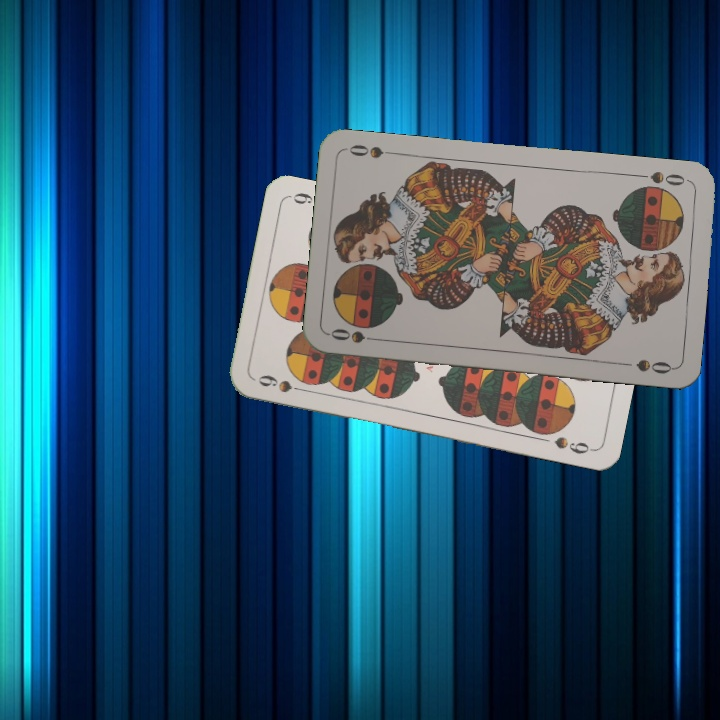S9: (255, 370, 311, 396)
SO: (632, 167, 692, 189), (327, 324, 386, 346)
